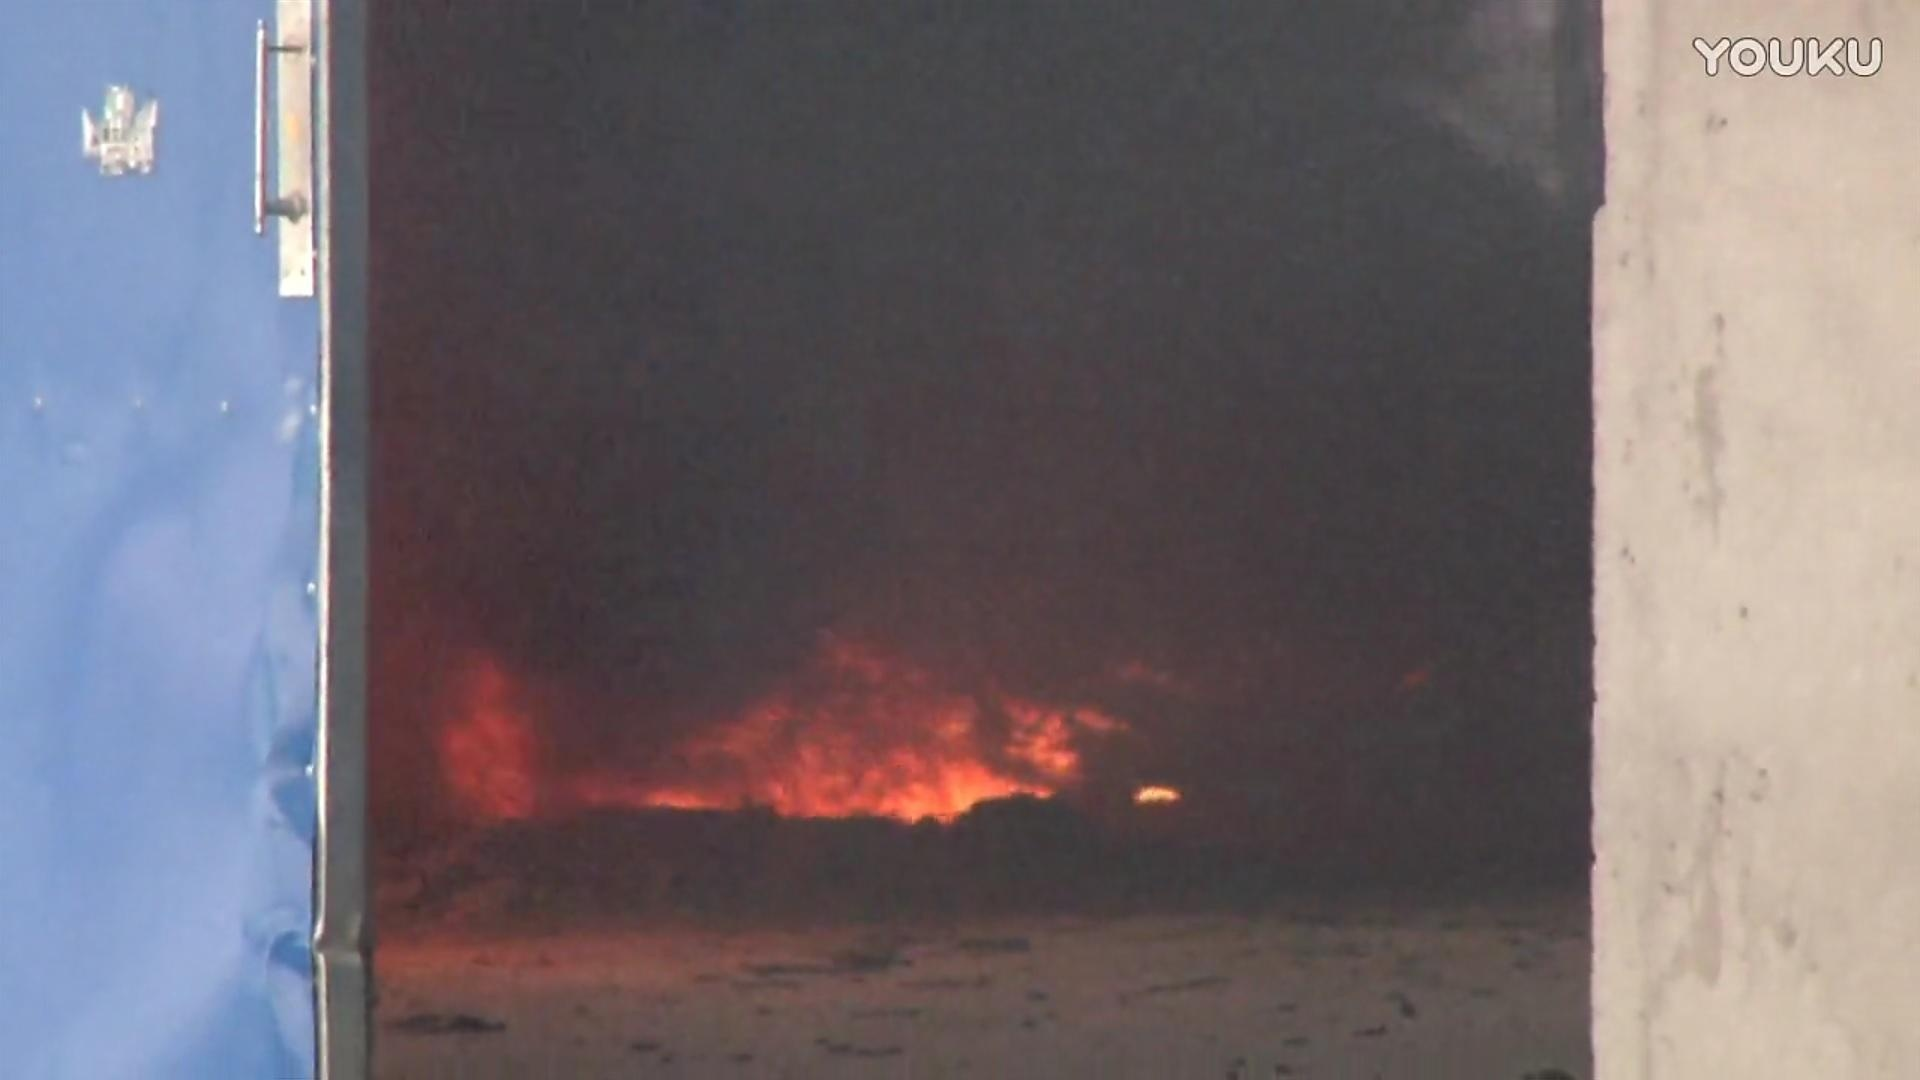fire: (400, 658, 1156, 829)
